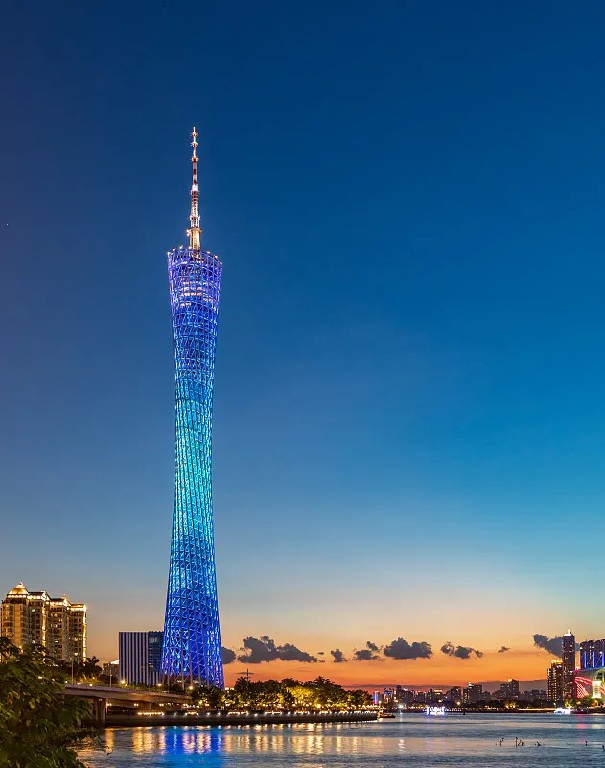Canton: (162, 127, 226, 687)
